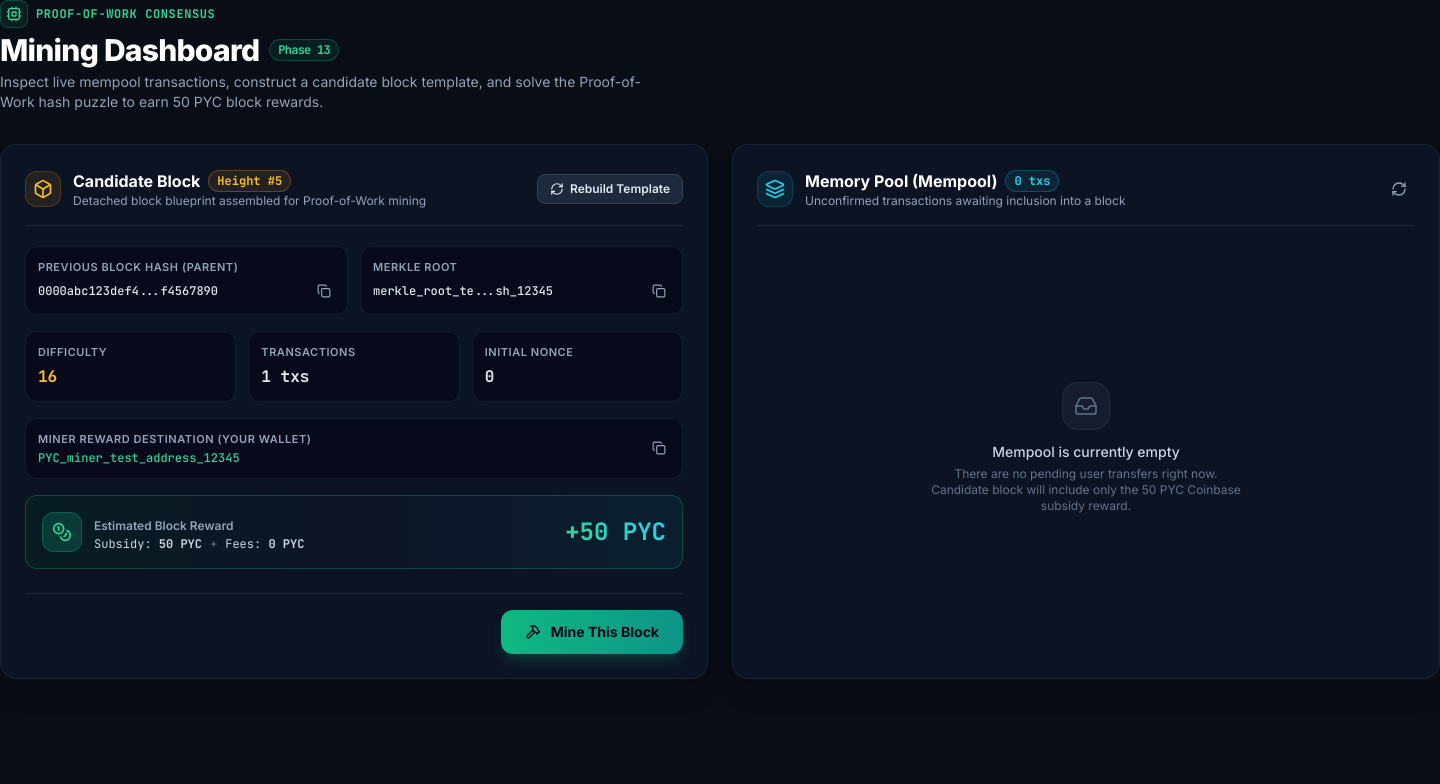
Test: MiningPage › cancels mining when Cancel Mining is clicked
Expected: the text "Height #5" is shown, [208,170,291,192]
Step 1. Click the button "Mine This Block" → (592, 632), box [501,610,683,654]
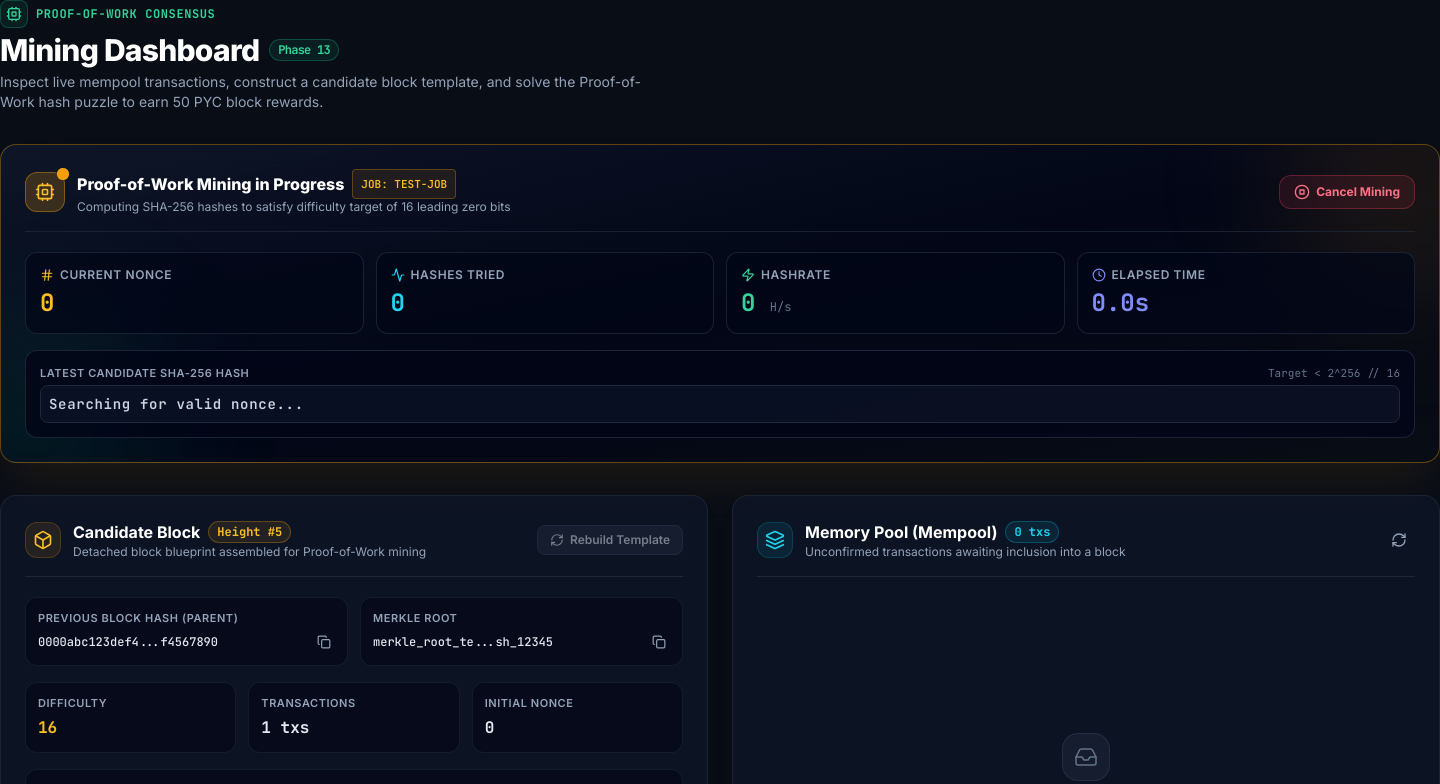
Expected: the button "Cancel Mining" is shown
Step 2. Click the button "Cancel Mining" → (1347, 192), box [1279,175,1415,209]
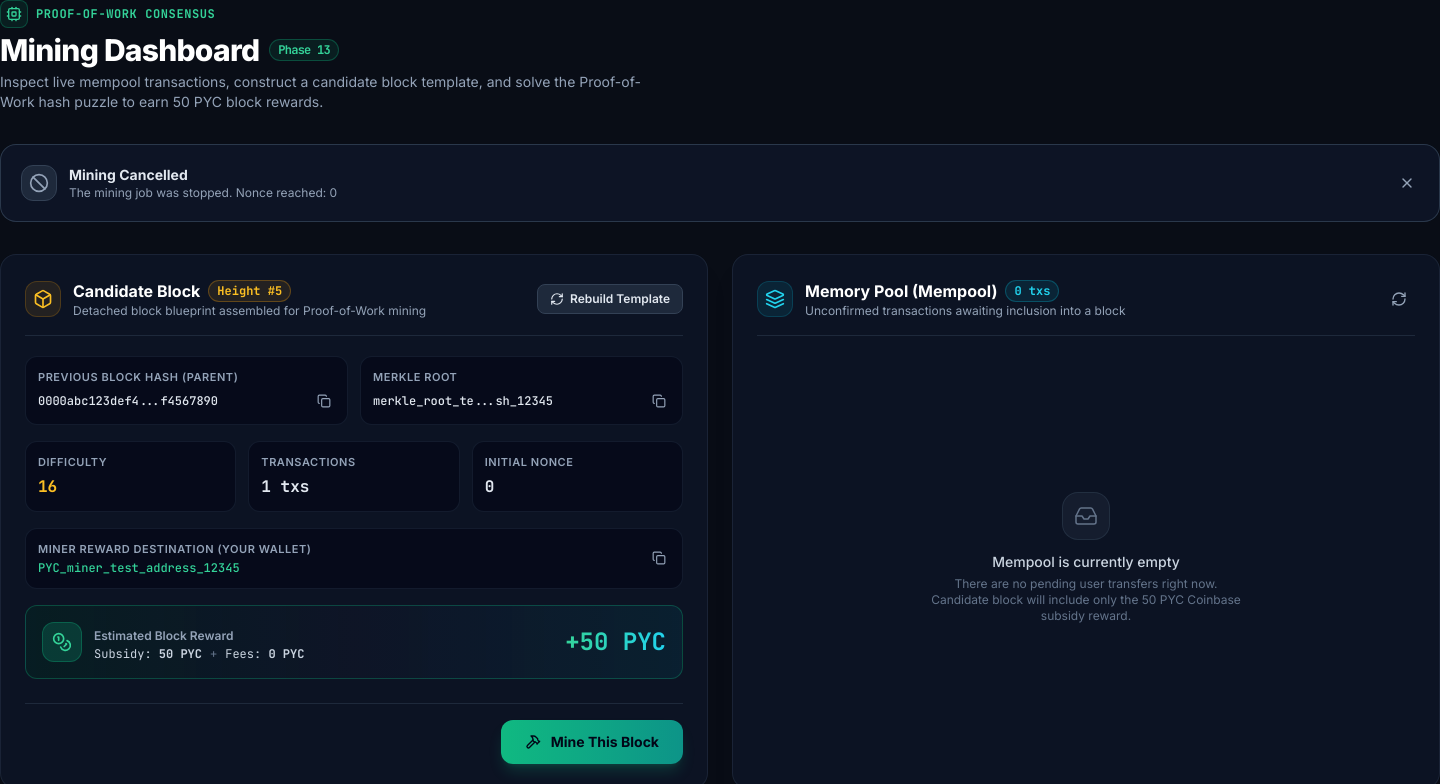
Expected: the heading "Mining Cancelled" is shown, [69,166,188,183]
